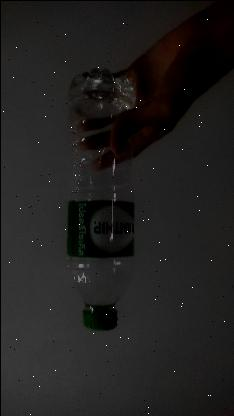Plastic Bottle: (62, 62, 138, 336)
